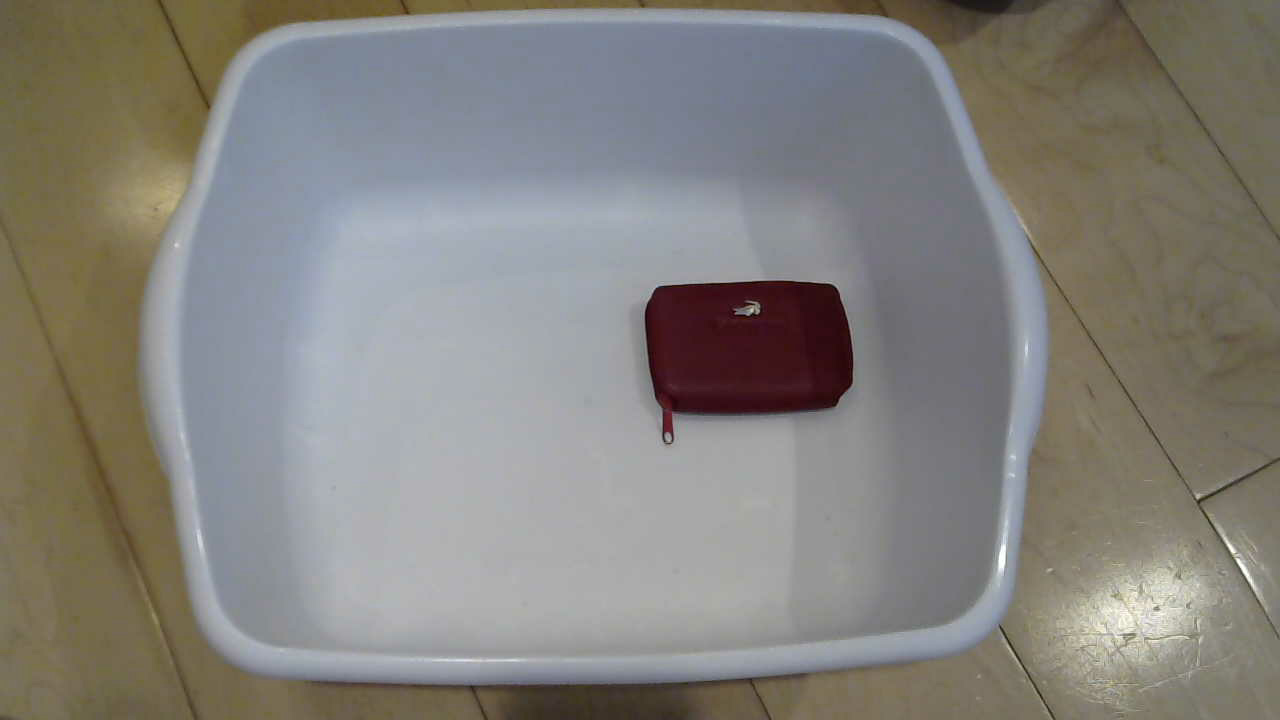wallet: (625, 261, 882, 453)
